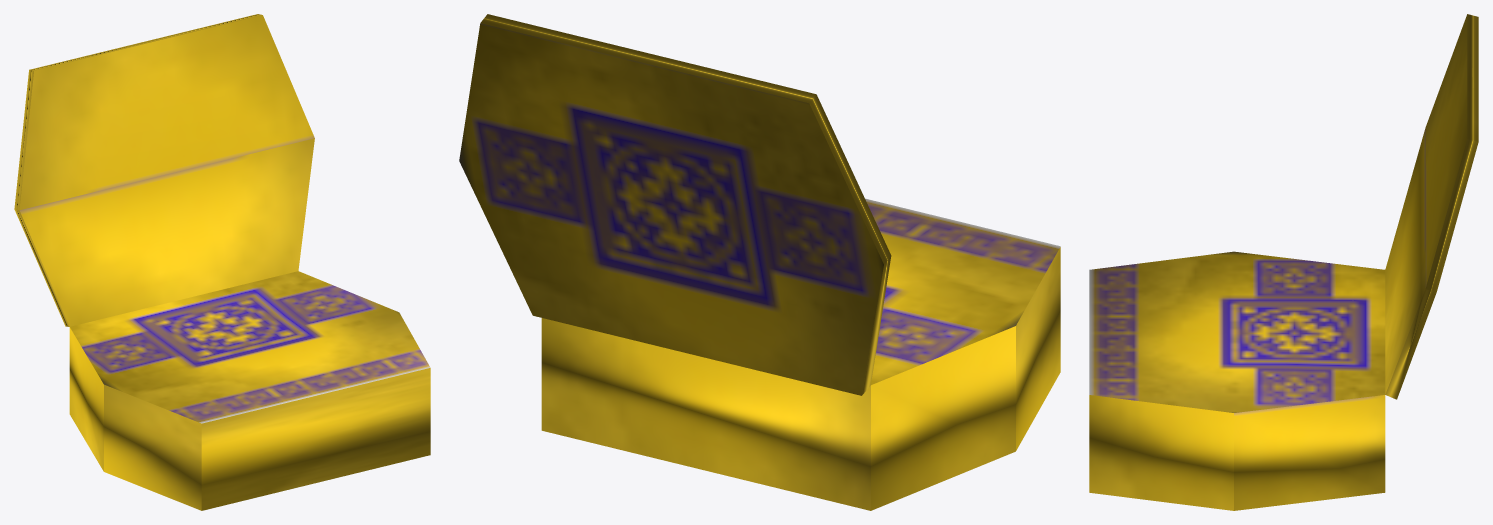
Rendered from Jewelbox.fbx.
3 renders of one model, left to right at view 1: azimuth 30°, elevation 25°; view 2: azimuth 150°, elevation 25°; view 3: azimuth 270°, elevation 25°, orthographic. The views are drawn at different scales.
Visible parts, largest first — view 1: Jewelbox_1; view 2: Jewelbox_1; view 3: Jewelbox_1.
Part boxes in pixels (x1,y1,x2,y2): Jewelbox_1: (14,14,430,510); Jewelbox_1: (459,14,1060,510); Jewelbox_1: (1089,14,1478,510).
Bounding box in the file's own units: 29.72 × 30.29 × 30.16.
